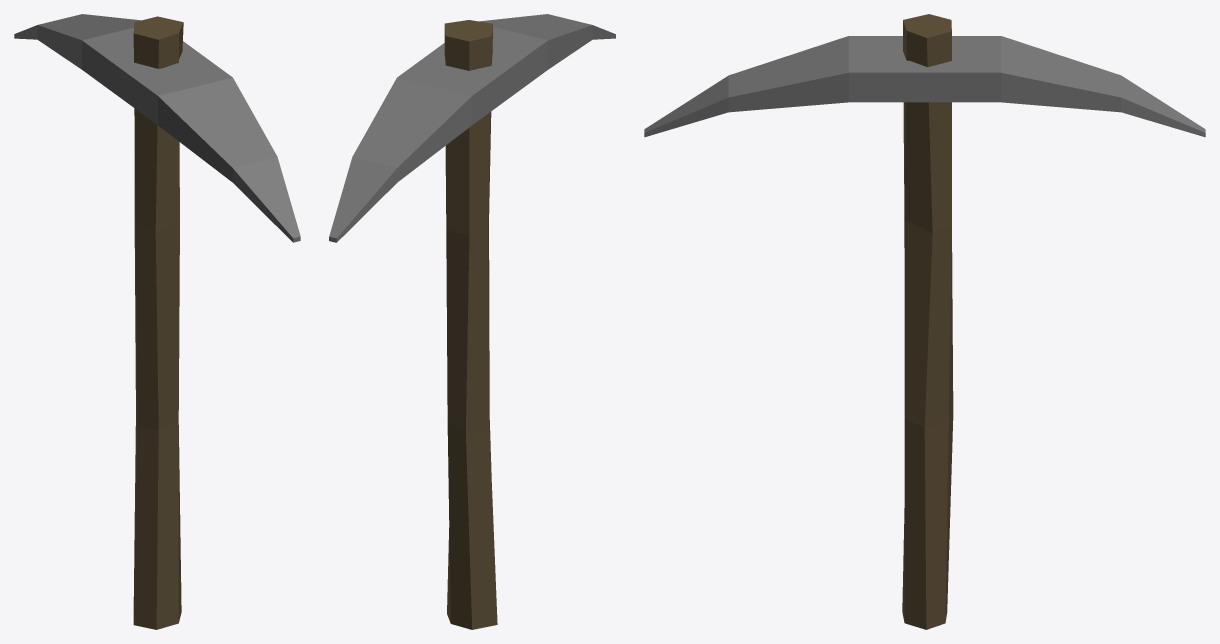
File: pickaxe.fbx
3 views of the same model, side by side, from view 1: azimuth 30°, elevation 25°; view 2: azimuth 150°, elevation 25°; view 3: azimuth 270°, elevation 25° (orthographic).
Parts seen in each view (by area): view 1: Cylinder.017; view 2: Cylinder.017; view 3: Cylinder.017.
Part boxes in pixels (x1,y1,x2,y2): Cylinder.017: (14, 14, 300, 629); Cylinder.017: (329, 14, 615, 629); Cylinder.017: (644, 14, 1205, 629).
Size of the model in its own units: 0.12 by 0.9 by 0.7722.
